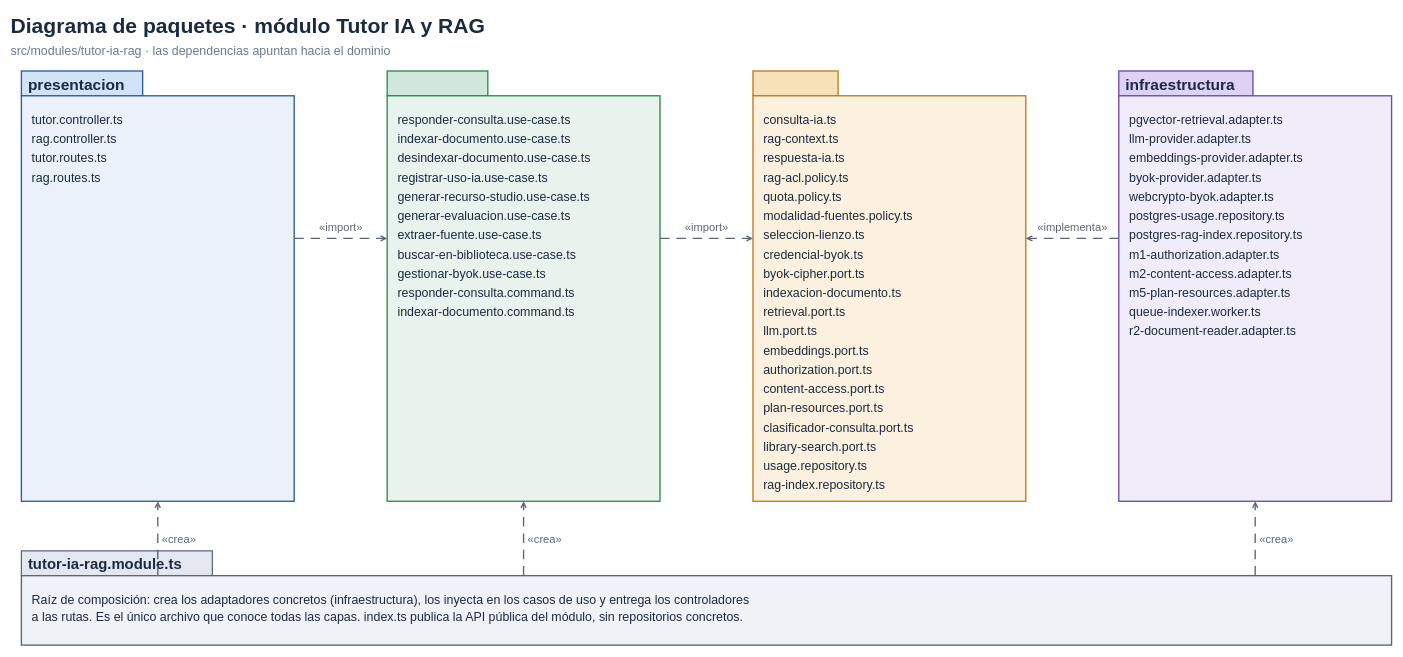
The diagram is 1403 pixels wide and 657 high, and some of its shapes have lost their labels. Here are the shapes that lost their labels. From the top down, the centre of each, then its label:
At (437,83): "aplicacion".
At (795,83): "dominio".
